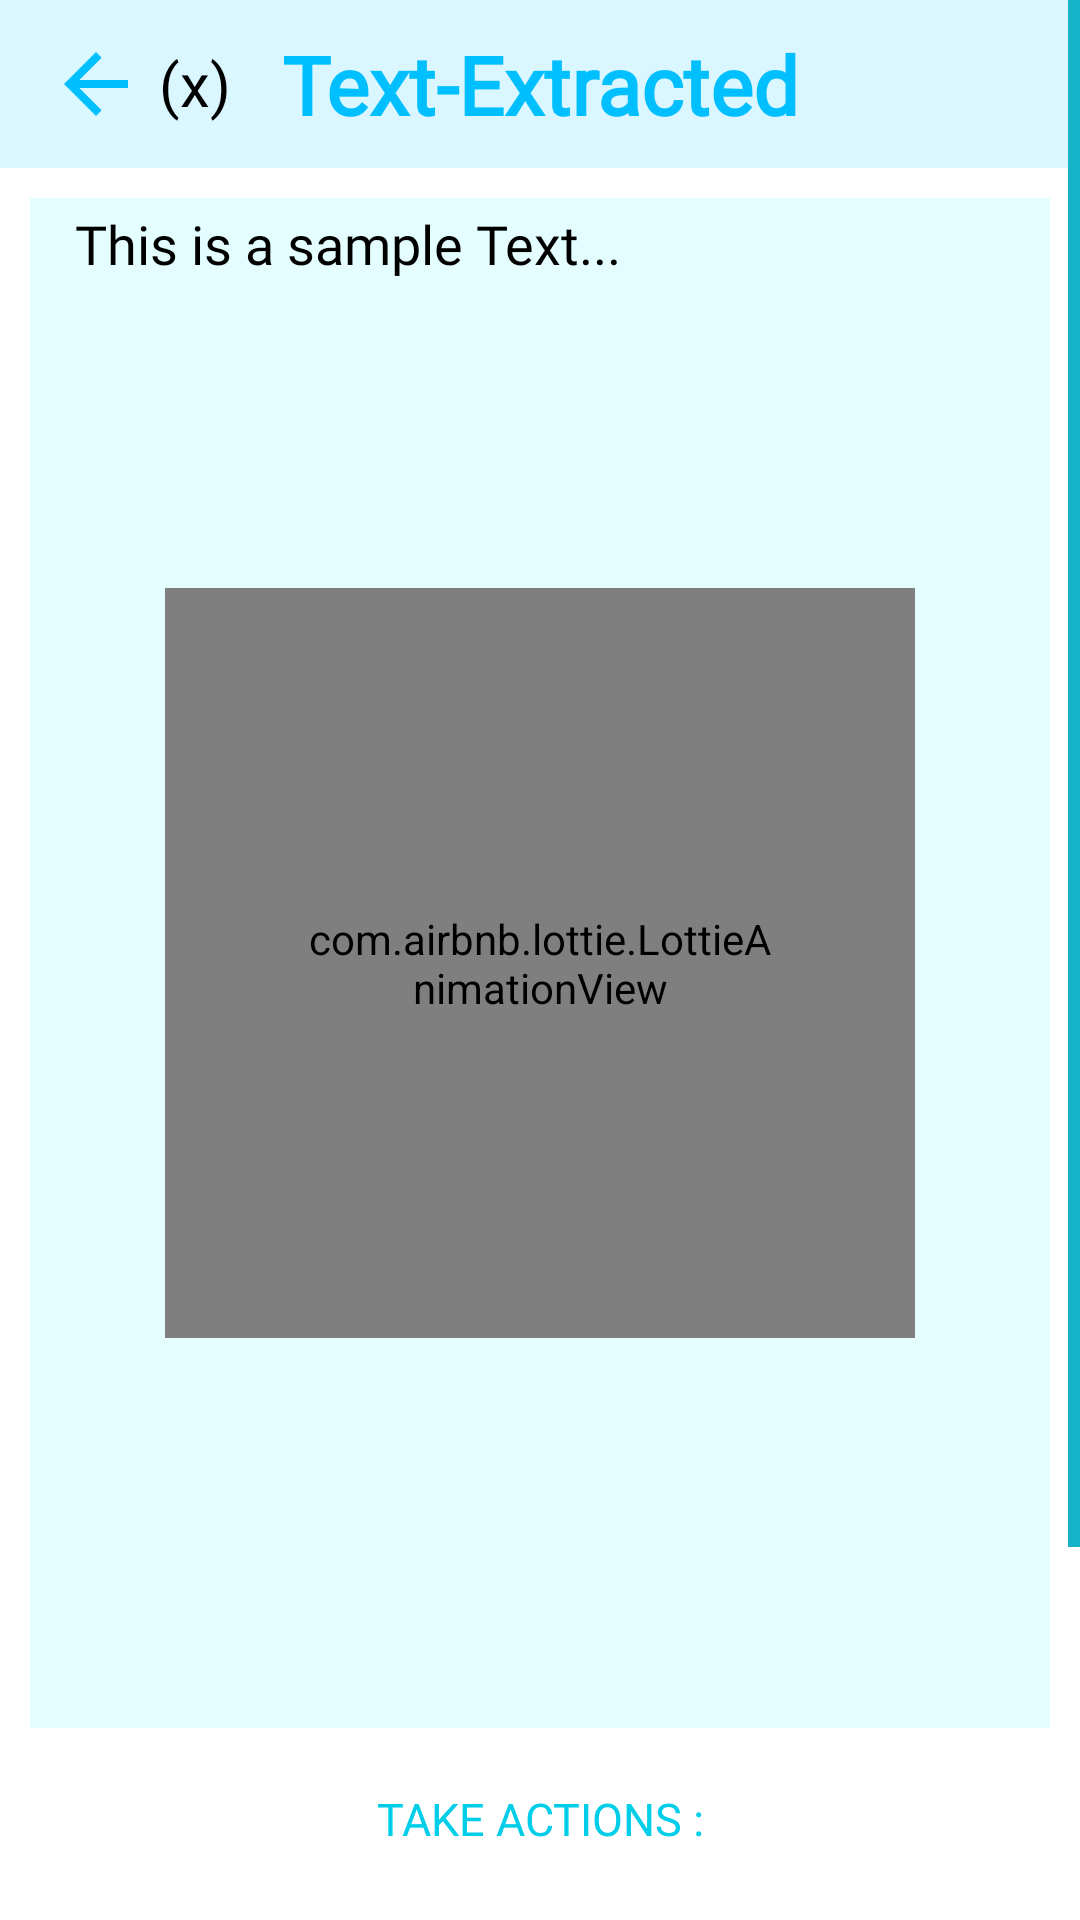

Screen size 1080px x 1920px. Icon name, then its center in pixels as [x,y]:
back arrow: [96,84]
